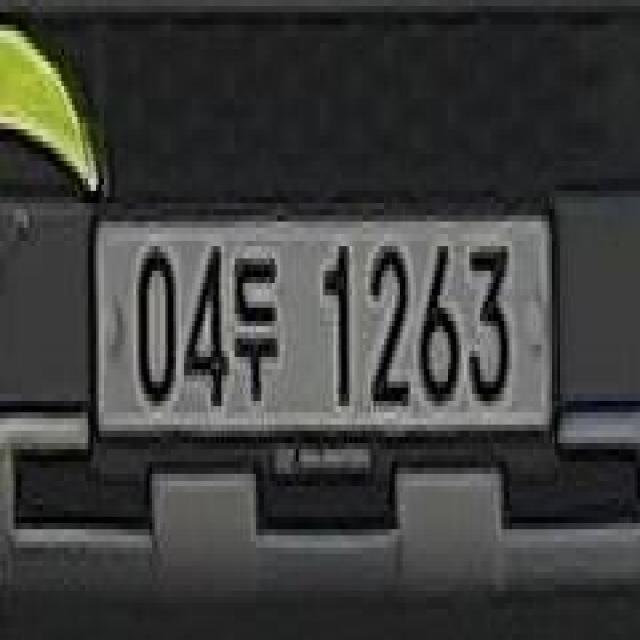illegal_plate: (93, 194, 556, 500)
